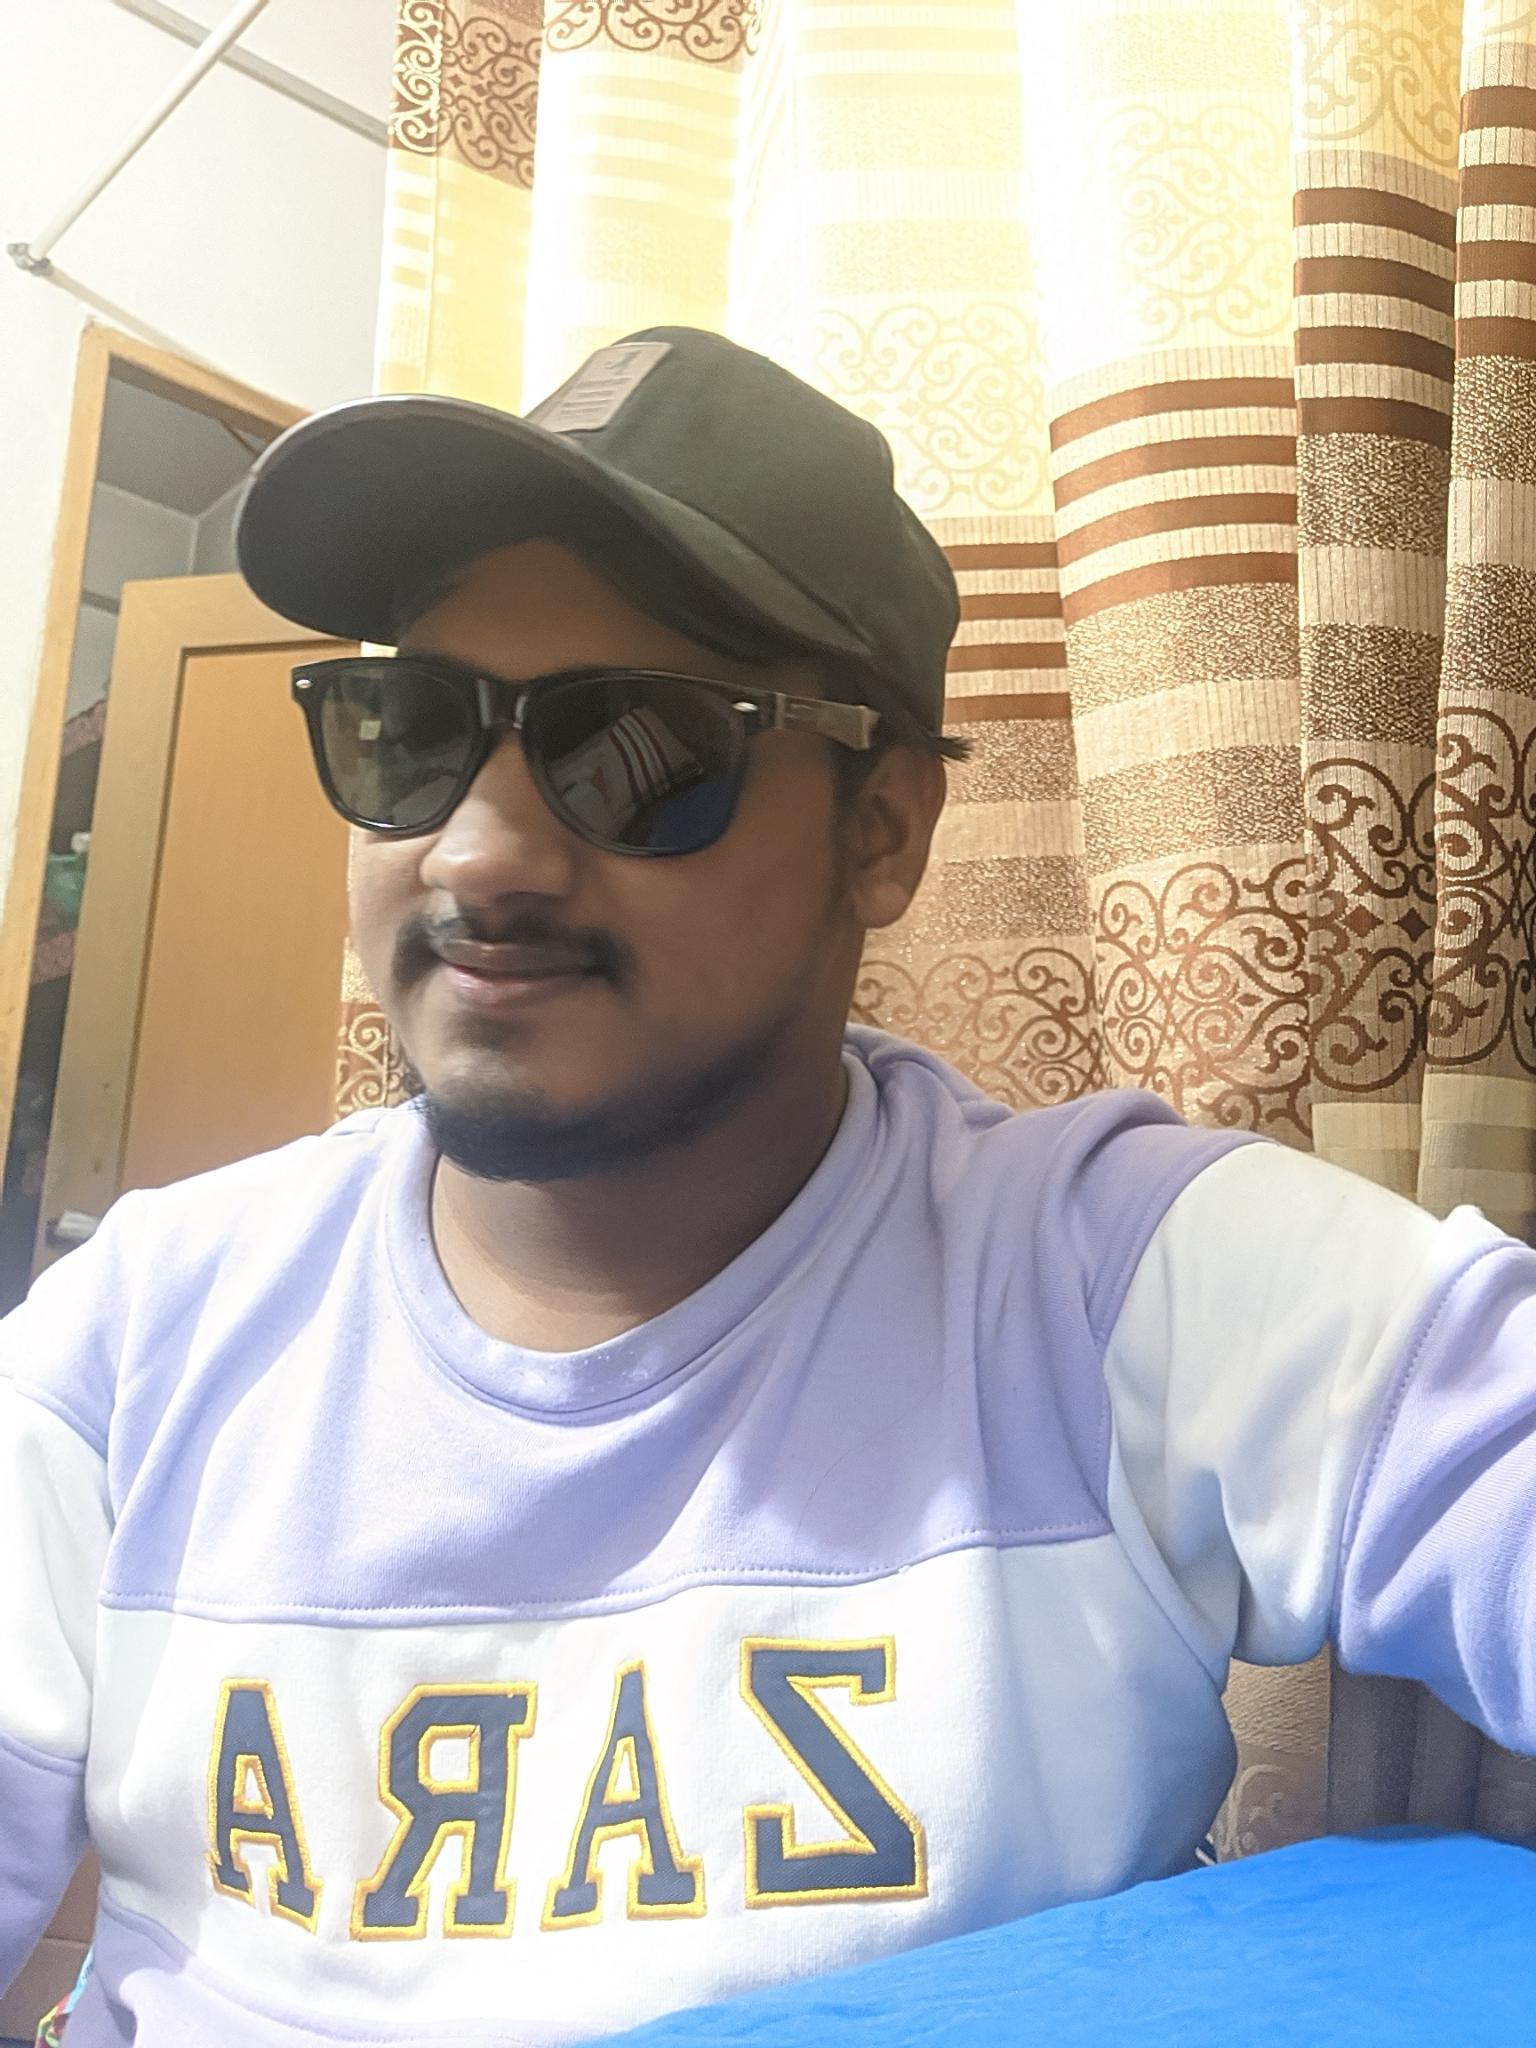Happy: (331, 635, 765, 1176)
